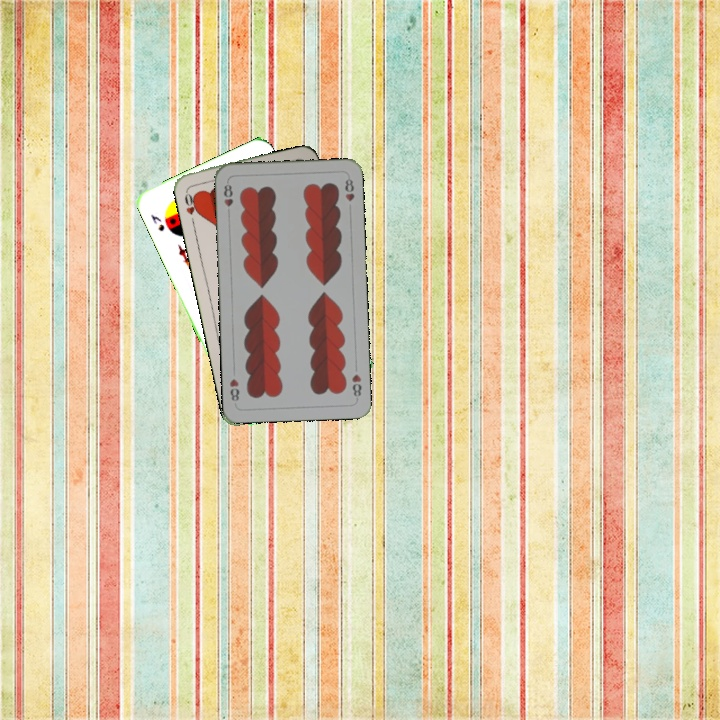H8: (348, 370, 364, 402), (220, 178, 235, 209)
HO: (181, 186, 203, 226)
SK: (147, 210, 167, 234)
